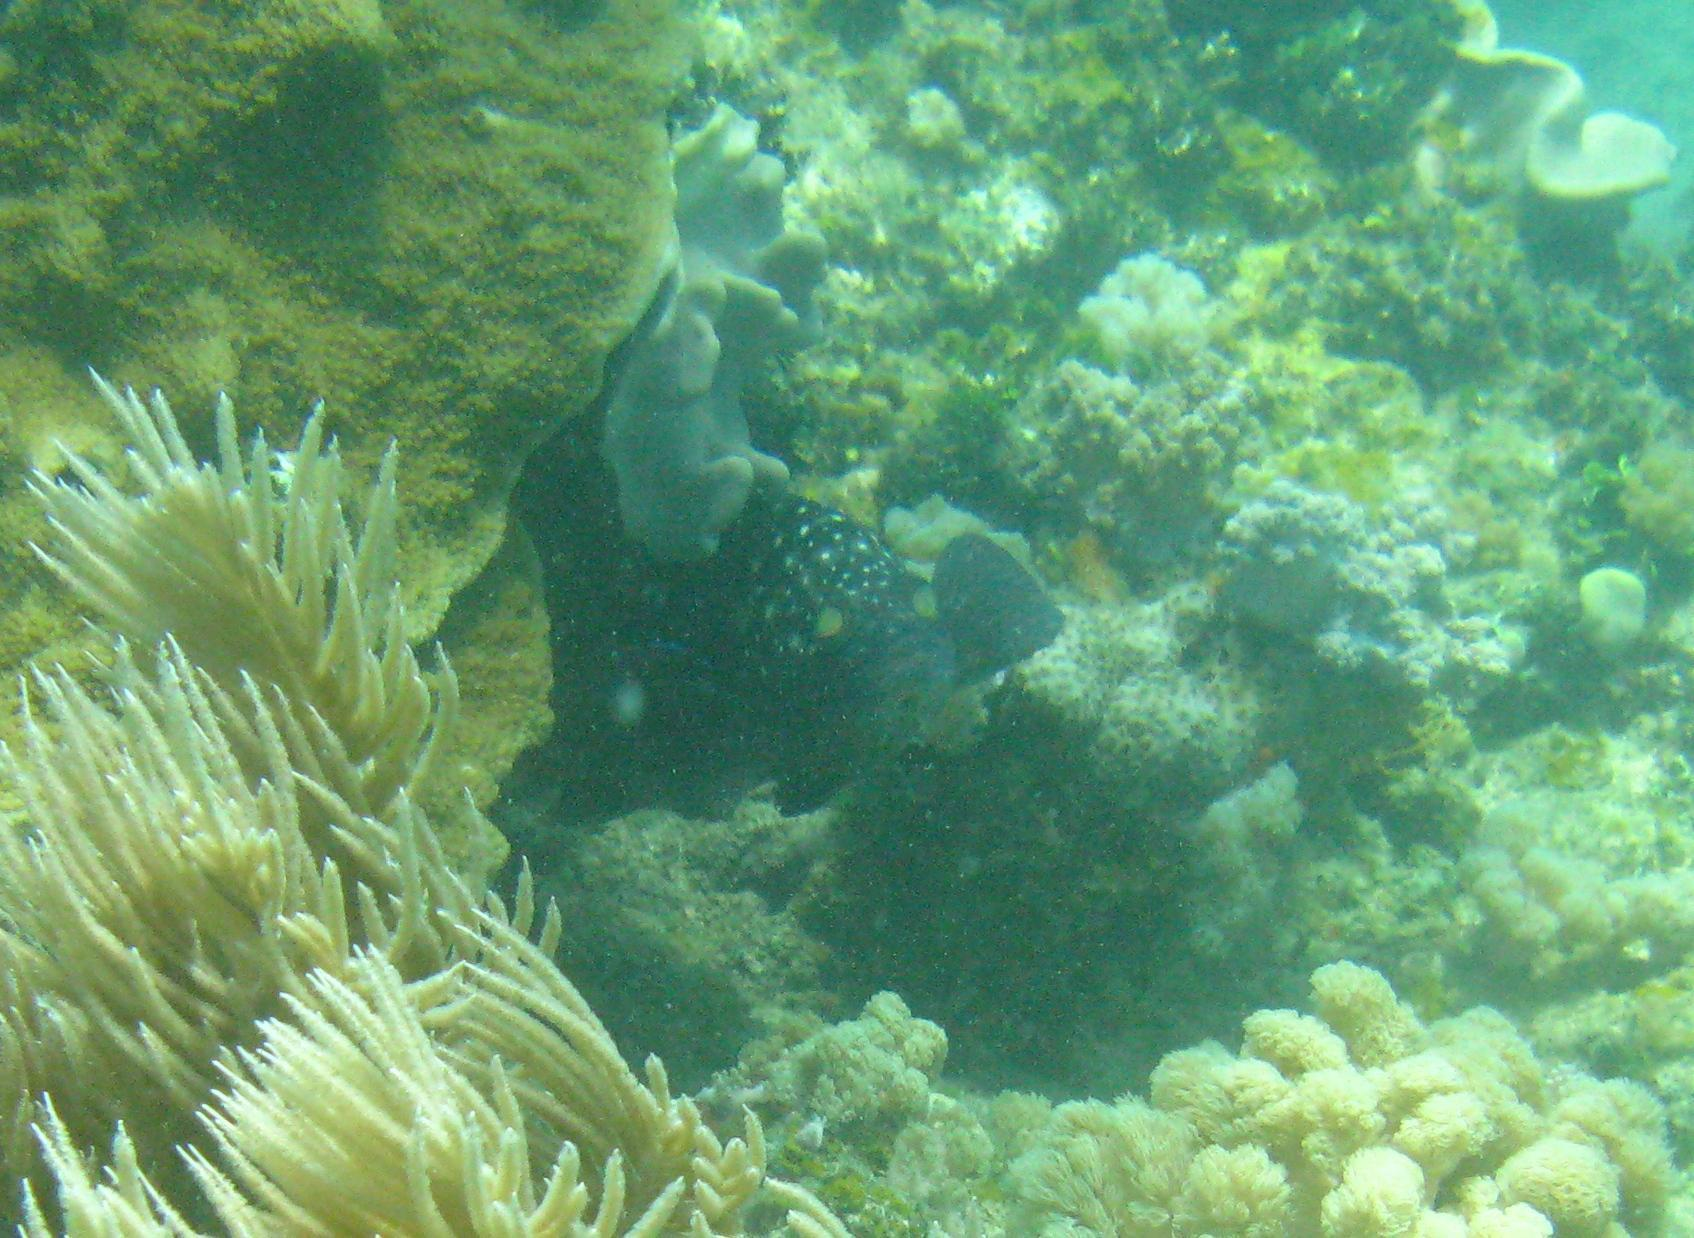Fish: (522, 475, 1110, 846)
